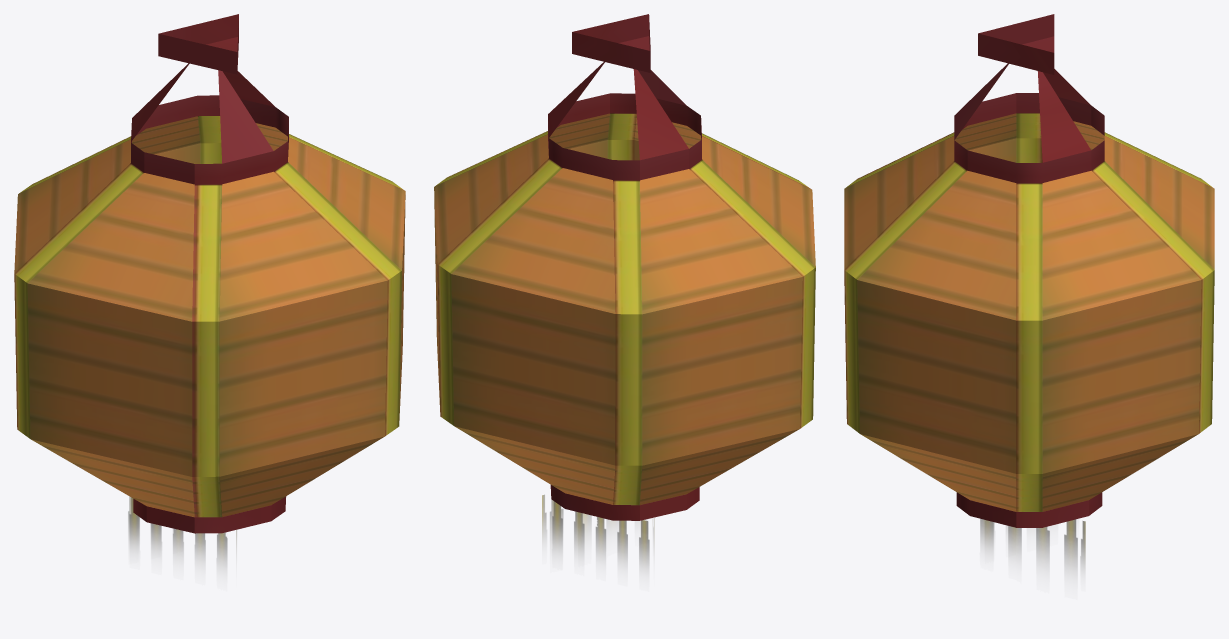
File: lamp01.glb
The picture shows the model from 3 angles, left to right: view 1: azimuth 30°, elevation 25°; view 2: azimuth 150°, elevation 25°; view 3: azimuth 270°, elevation 25°; orthographic projection. The views are drawn at different scales.
Parts seen in each view (by area): view 1: Lamp01; view 2: Lamp01; view 3: Lamp01.
Boxes of the visible parts, x1,y1,x2,y2 form: Lamp01: [14, 14, 405, 568]; Lamp01: [434, 14, 815, 570]; Lamp01: [844, 14, 1214, 573].
Size of the model in its own units: 1.28 by 1.85 by 1.1.
2 materials, 2 textured.
